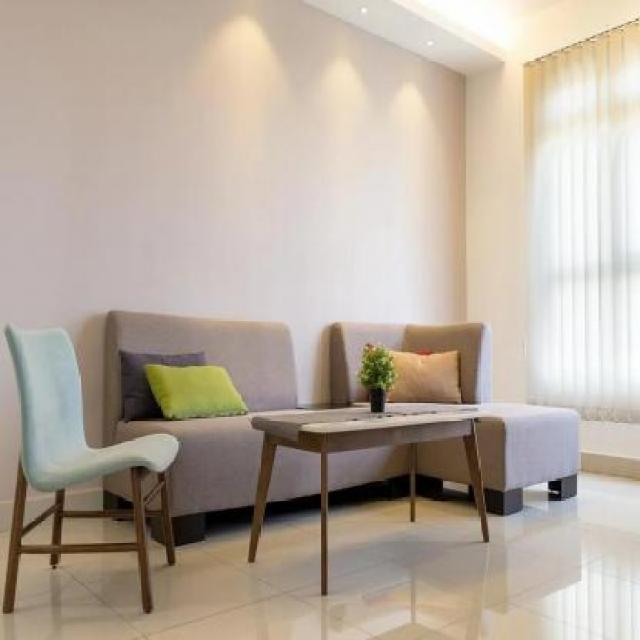Floor: (0, 469, 639, 639), (61, 516, 137, 544), (20, 522, 53, 544)
